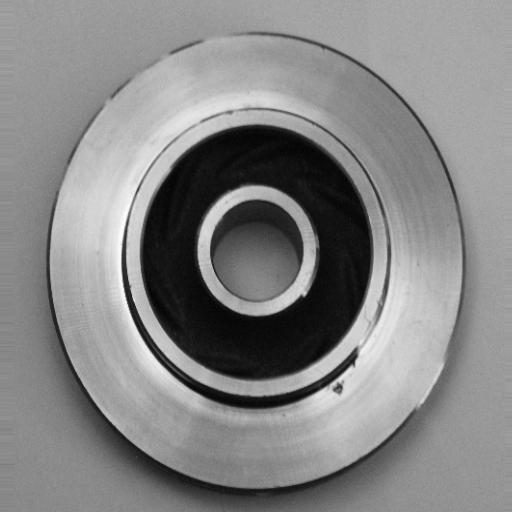crack: (326, 370, 353, 412)
scratch: (355, 287, 388, 365)
unpolished_casting: (47, 26, 467, 494)
